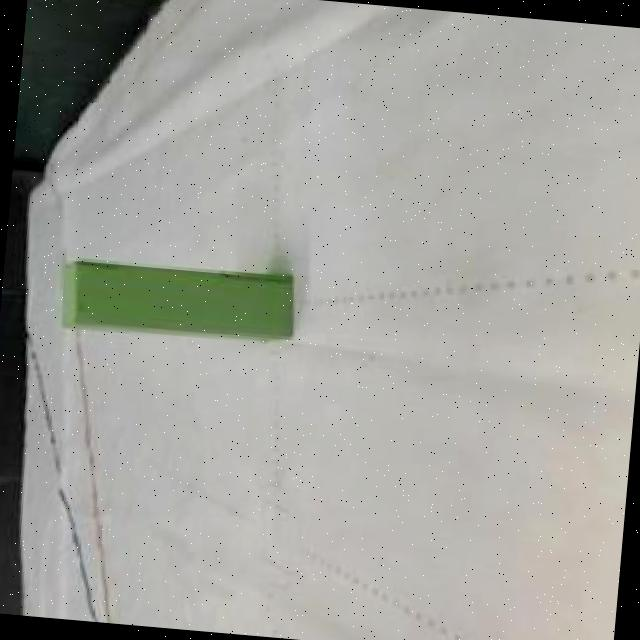greenbox: (48, 248, 298, 350)
